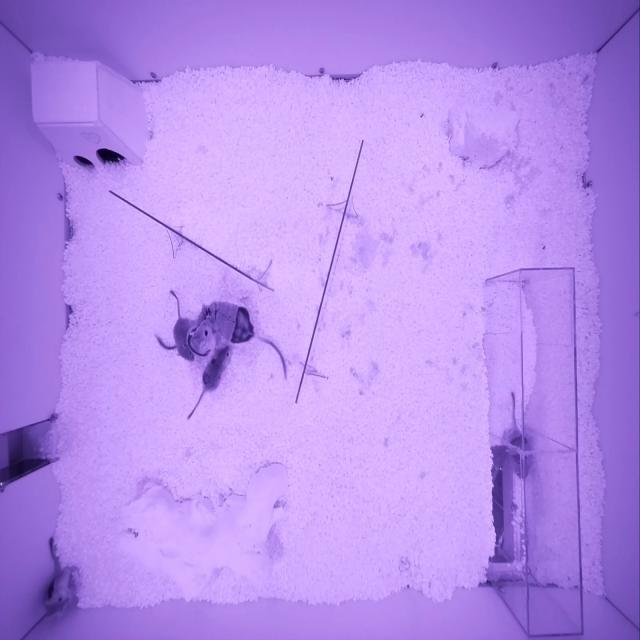adult_back: (197, 300, 257, 343)
adult_front: (186, 316, 215, 358)
pup_fluffy: (173, 316, 197, 361)
pup_h_stripe: (502, 428, 533, 478)
pup_spotted: (202, 344, 233, 394)
pup_v_stripe: (44, 566, 80, 618)
